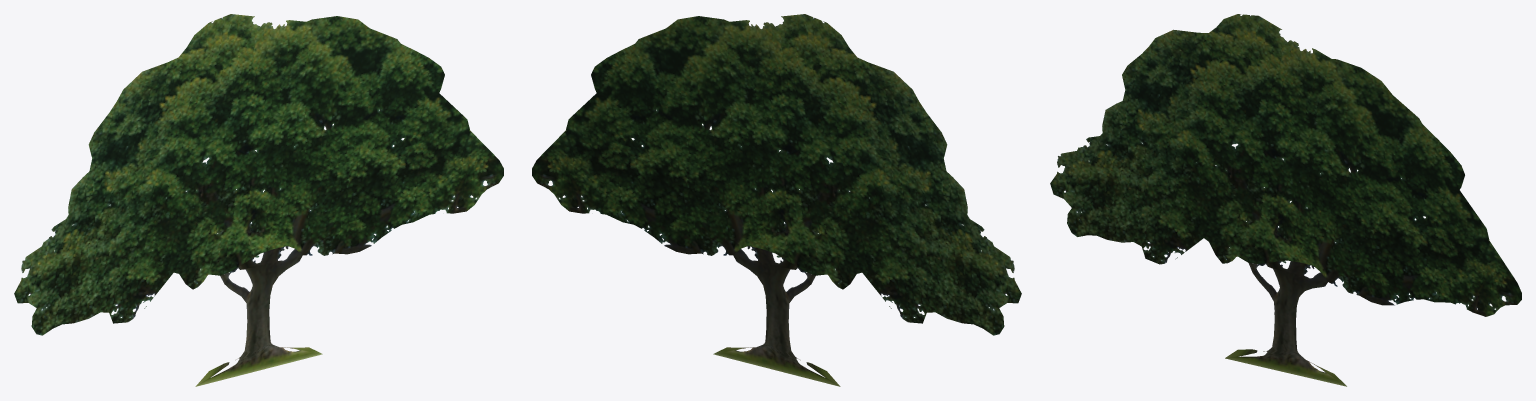
The model's file is dzewo_zdjecie_plaskie.fbx.
3 renders of one model, left to right at view 1: azimuth 30°, elevation 25°; view 2: azimuth 150°, elevation 25°; view 3: azimuth 330°, elevation 25°, orthographic. The views are drawn at different scales.
Visible parts, largest first — view 1: Plane; view 2: Plane; view 3: Plane.
Part boxes in pixels (x1=…): Plane: x1=14, y1=14, x2=503, y2=386; Plane: x1=532, y1=14, x2=1021, y2=386; Plane: x1=1050, y1=14, x2=1521, y2=386.
Size of the model in its own units: 477 by 339 by 6.01e-05.
1 material, 1 textured.
